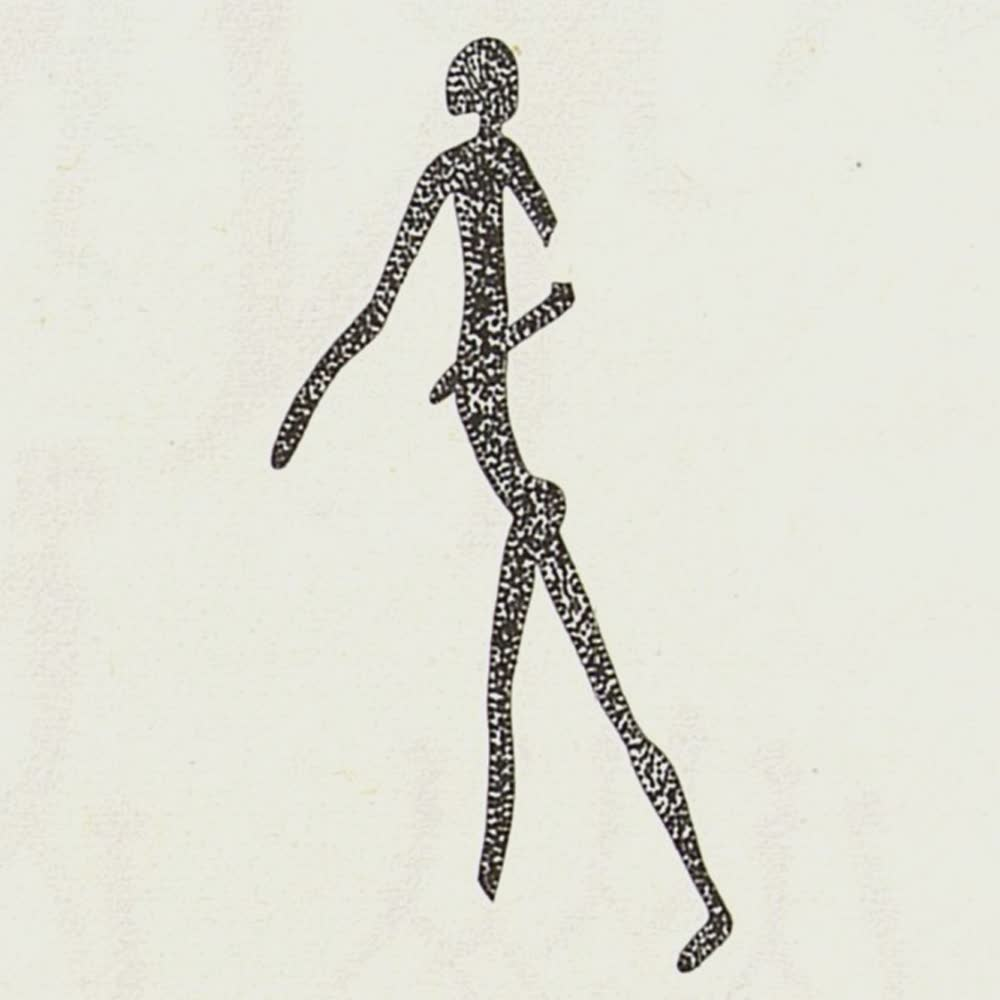man: (264, 32, 737, 976)
